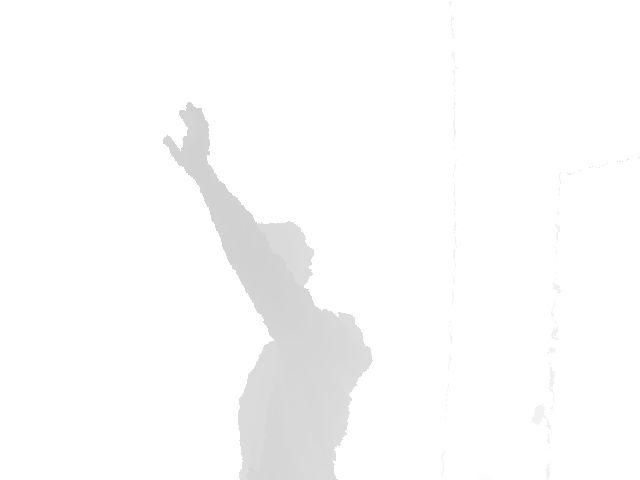hand: (161, 100, 215, 169)
head: (237, 220, 316, 298)
person: (161, 100, 374, 480)
